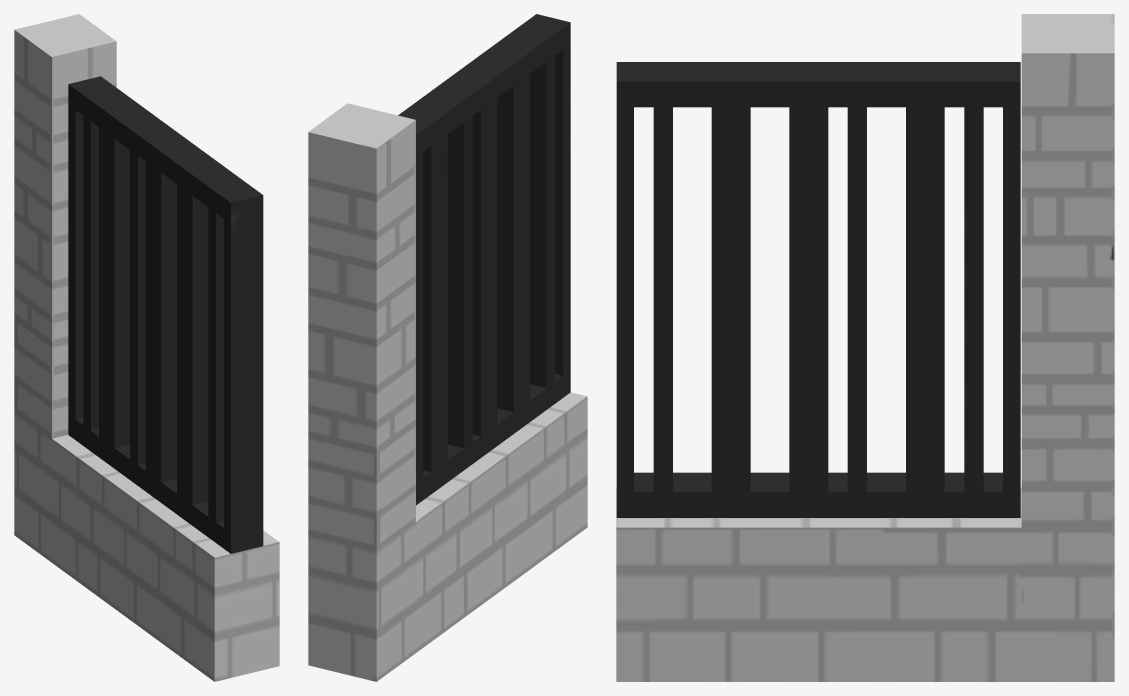
The model's file is TallGateFence.fbx.
3 views of the same model, side by side, from view 1: azimuth 30°, elevation 25°; view 2: azimuth 150°, elevation 25°; view 3: azimuth 270°, elevation 25° (orthographic). The views are drawn at different scales.
Visible parts, largest first — view 1: TallGate_Fence, TallGate_FencePillar; view 2: TallGate_FencePillar, TallGate_Fence; view 3: TallGate_FencePillar, TallGate_Fence.
Boxes of the visible parts, x1,y1,x2,y2 form: TallGate_Fence: (68, 76, 263, 553); TallGate_FencePillar: (14, 14, 279, 681); TallGate_FencePillar: (308, 103, 587, 681); TallGate_Fence: (398, 14, 570, 505); TallGate_FencePillar: (616, 14, 1114, 681); TallGate_Fence: (616, 62, 1020, 517).
Bounding box in the file's own units: 40 × 298 × 214.
